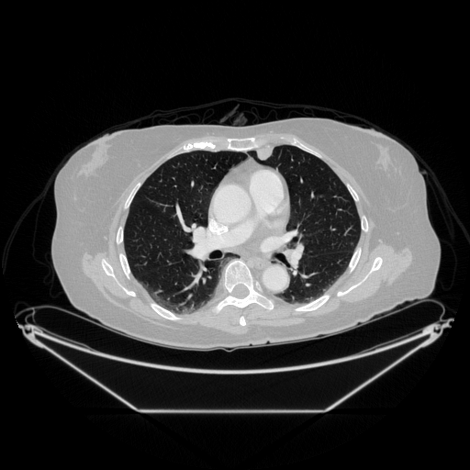nodule: (256, 144, 272, 160)
